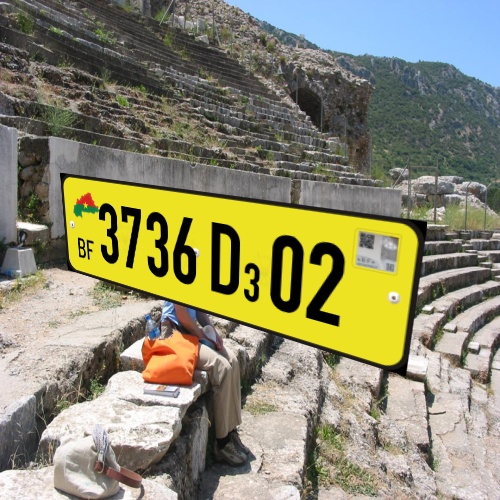plate: (46, 158, 438, 394)
